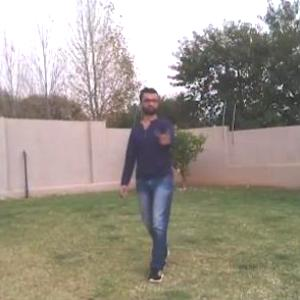takeoff-hand: (153, 120, 178, 148)
